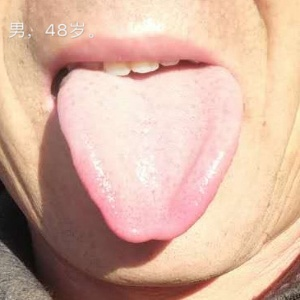st: (50, 83, 247, 234)
